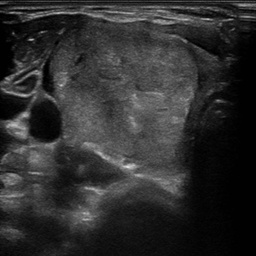mass: (49, 27, 195, 171)
